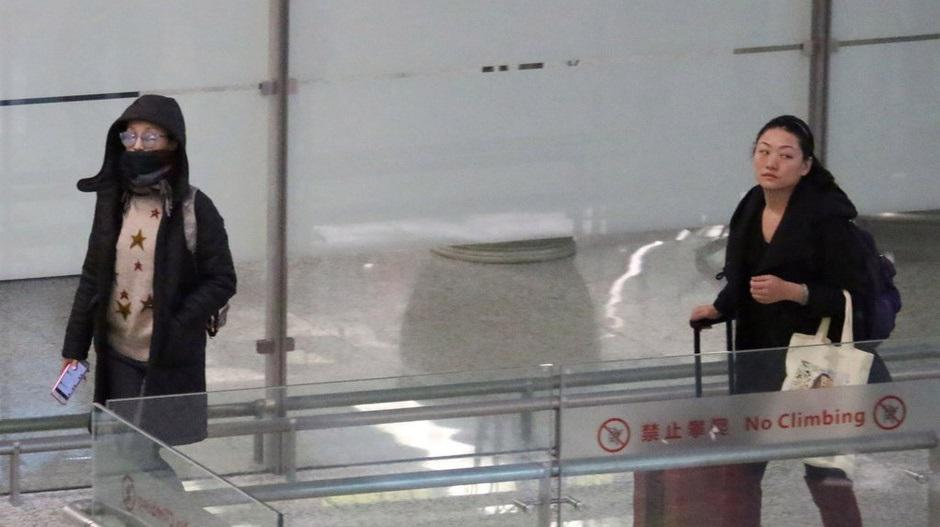NONE: (755, 137, 802, 190)
WRONG: (118, 117, 178, 174)
